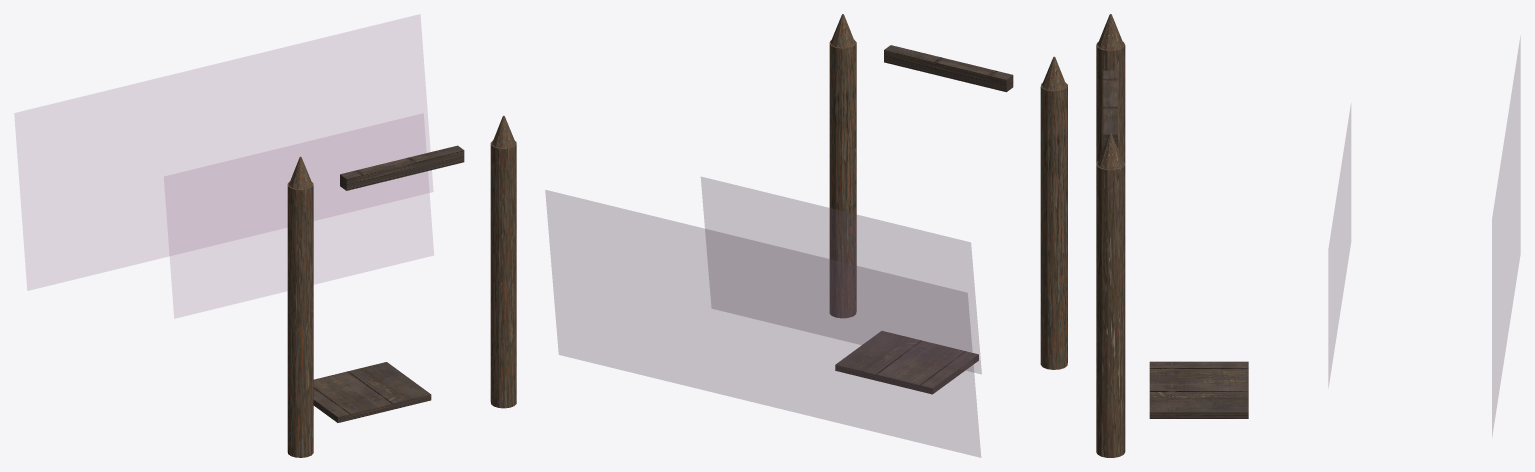
Rendered from mist_drop_realistic.glb.
The picture shows the model from 3 angles, left to right: view 1: azimuth 30°, elevation 25°; view 2: azimuth 150°, elevation 25°; view 3: azimuth 270°, elevation 25°; orthographic projection. The views are drawn at different scales.
Visible parts, largest first — view 1: Plane.001, Plane, Cylinder, Cylinder.001, Cube.001, Cube; view 2: Plane.001, Plane, Cylinder, Cylinder.001, Cube.001, Cube; view 3: Cylinder.001, Plane.001, Cube.001, Plane, Cylinder, Cube, Cone.001, Cone.
Boxes of the visible parts, bbox=[...] form: Plane.001: bbox=[14, 14, 433, 290]; Plane: bbox=[164, 113, 433, 318]; Cylinder: bbox=[287, 181, 313, 457]; Cylinder.001: bbox=[490, 140, 516, 408]; Cube.001: bbox=[313, 362, 431, 422]; Cube: bbox=[340, 145, 464, 190]; Plane.001: bbox=[545, 190, 980, 457]; Plane: bbox=[701, 177, 981, 373]; Cylinder: bbox=[1040, 82, 1067, 369]; Cylinder.001: bbox=[829, 39, 856, 318]; Cube.001: bbox=[835, 331, 978, 394]; Cube: bbox=[884, 45, 1013, 92]; Cylinder.001: bbox=[1096, 161, 1125, 457]; Plane.001: bbox=[1492, 37, 1520, 435]; Cube.001: bbox=[1149, 361, 1248, 418]; Plane: bbox=[1328, 106, 1350, 386]; Cylinder: bbox=[1096, 42, 1125, 163]; Cube: bbox=[1103, 70, 1117, 147]; Cone.001: bbox=[1097, 133, 1123, 169]; Cone: bbox=[1097, 14, 1123, 49].
Size of the model in its own units: 5 by 3.47 by 4.08.
3 materials, 2 textured.
